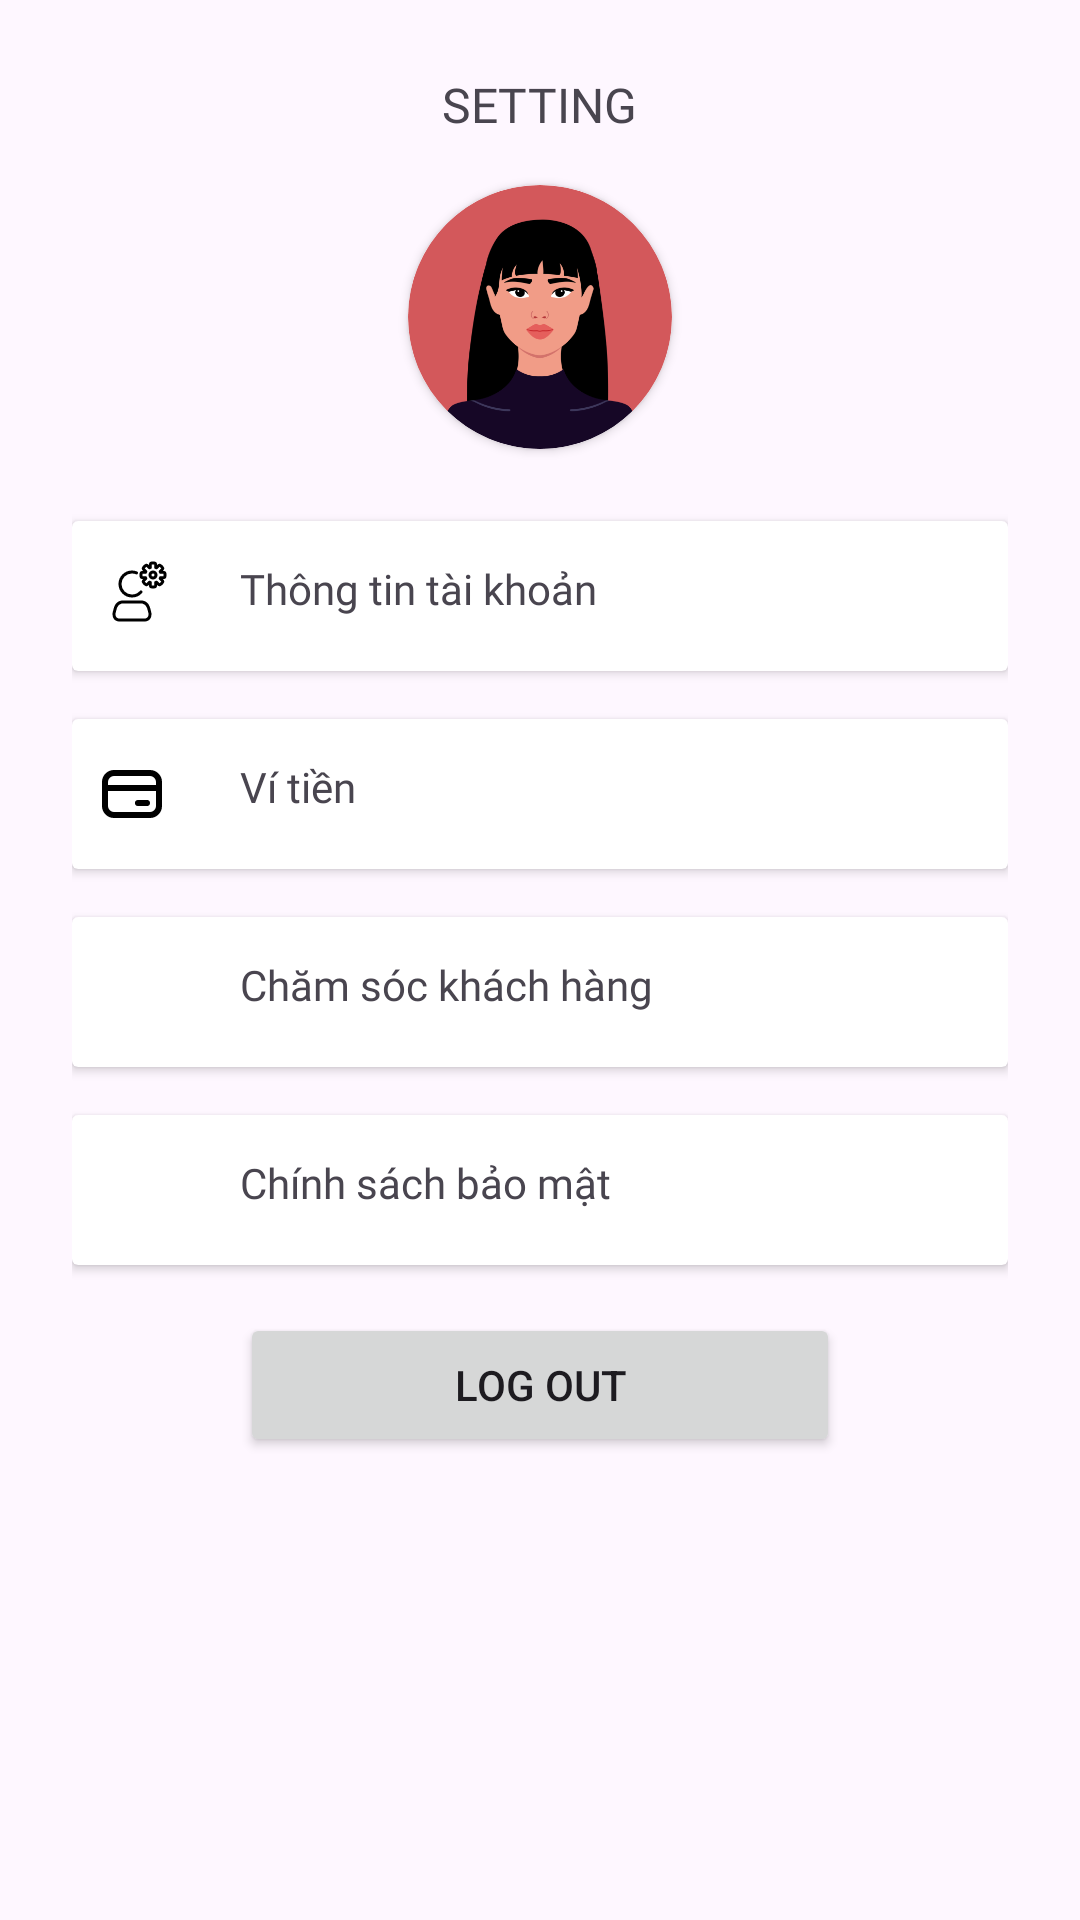

Icons on this 1080 x 1920 Android screen, each with the point to tap as [x,y]:
avt: [540,317]
pay: [132,794]
user setting: [139,591]
